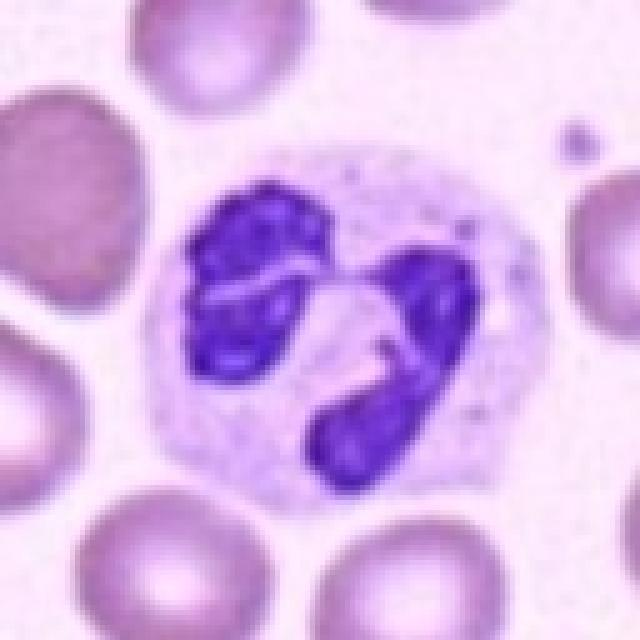neutro: (82, 93, 545, 584)
